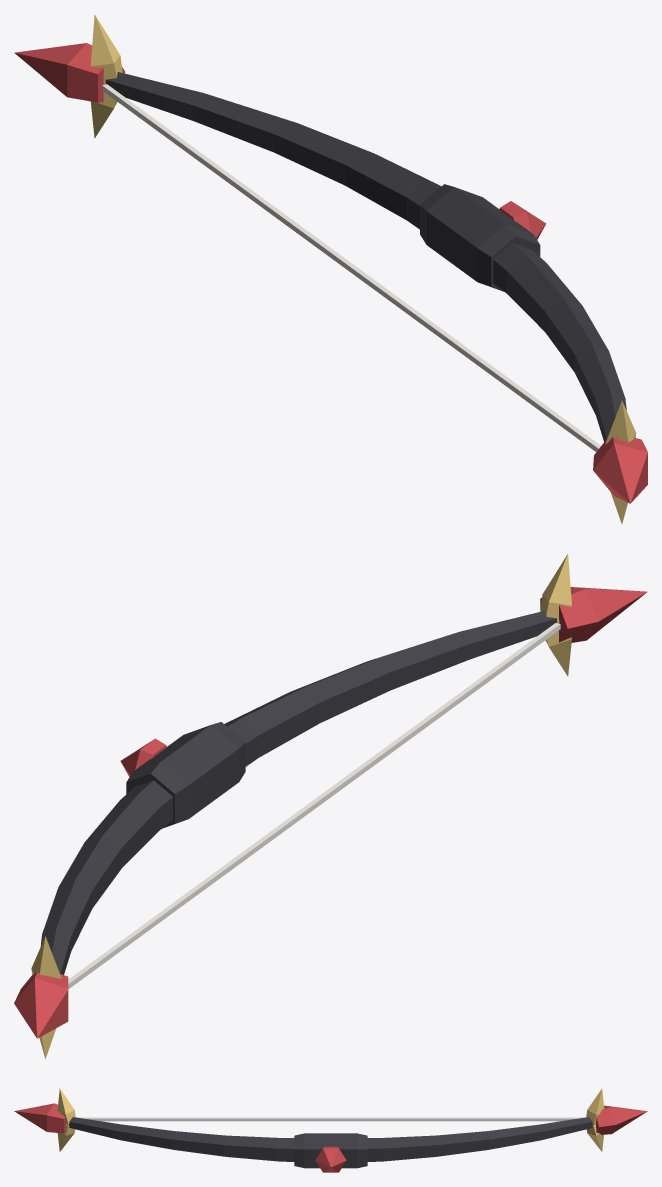
The model's file is emberbow.glb.
3 renders of one model, top to bottom at view 1: azimuth 30°, elevation 25°; view 2: azimuth 150°, elevation 25°; view 3: azimuth 270°, elevation 25°, orthographic. The views are drawn at different scales.
Parts seen in each view (by area): view 1: emberbow; view 2: emberbow; view 3: emberbow.
Boxes of the visible parts, x1,y1,x2,y2 form: emberbow: (14,14,647,523); emberbow: (14,554,647,1059); emberbow: (14,1088,647,1172).
Size of the model in its own units: 0.2537 by 0.135 by 1.21.
